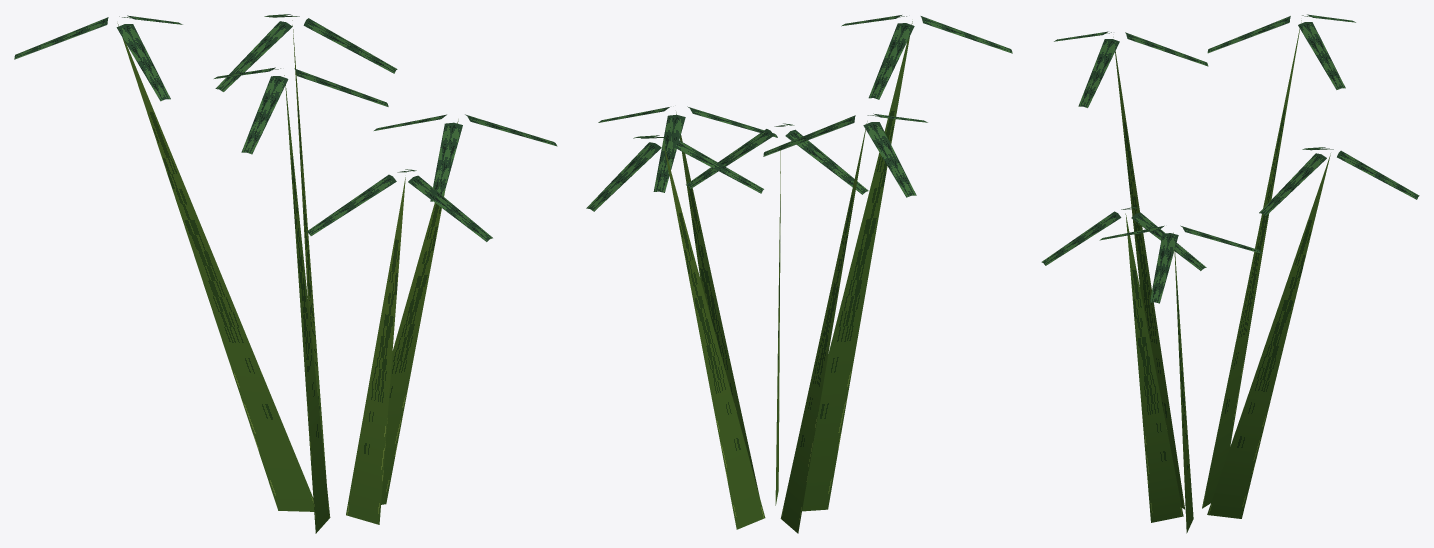
File: wild.reeds__papyrus.glb
3 renders of one model, left to right at view 1: azimuth 30°, elevation 25°; view 2: azimuth 150°, elevation 25°; view 3: azimuth 270°, elevation 25°, orthographic. The views are drawn at different scales.
Parts seen in each view (by area): view 1: kit_shell_blades; view 2: kit_shell_blades; view 3: kit_shell_blades.
Part boxes in pixels (x1,y1,x2,y2): kit_shell_blades: (14, 14, 557, 533); kit_shell_blades: (586, 15, 1012, 533); kit_shell_blades: (1041, 14, 1419, 533).
Bounding box in the file's own units: 1.71 × 1.87 × 1.47.
2 materials, 2 textured.
